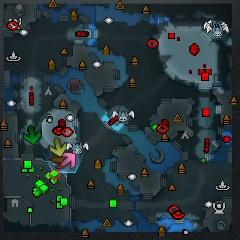x1: (59, 152, 76, 168)
x2: (49, 137, 68, 157)
x4: (23, 125, 42, 144)
x5: (51, 155, 67, 168)
